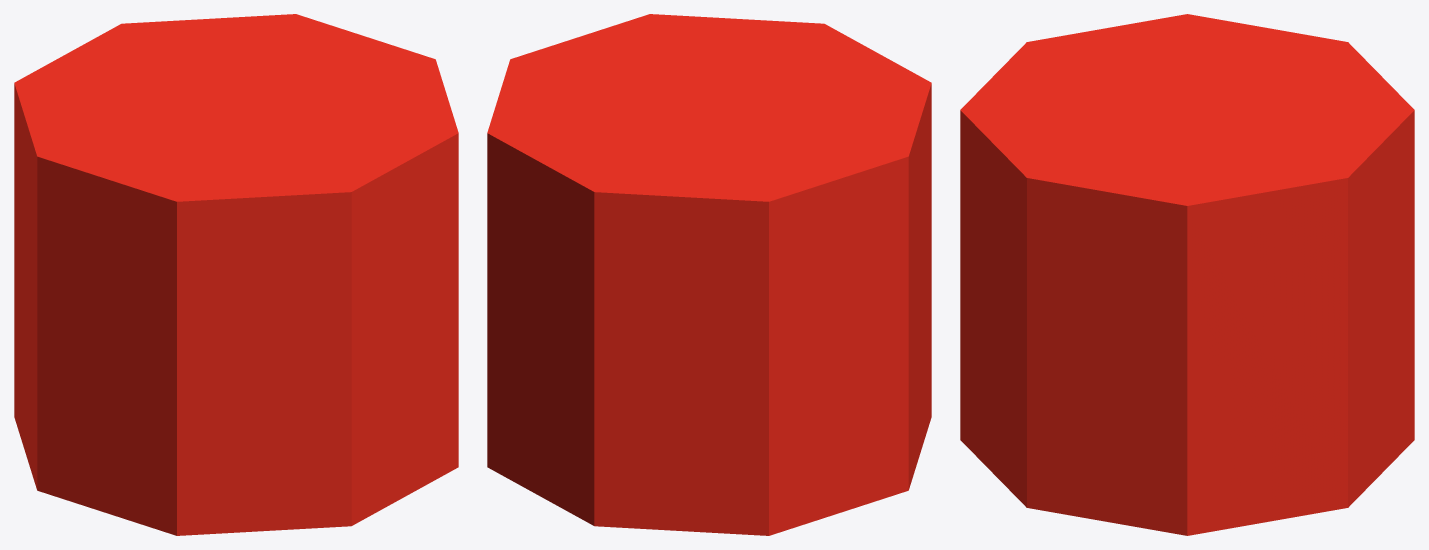
The model's file is battle_fallen_hoplite_memorial_collision.glb.
3 views of the same model, side by side, from view 1: azimuth 30°, elevation 25°; view 2: azimuth 150°, elevation 25°; view 3: azimuth 270°, elevation 25° (orthographic).
Parts seen in each view (by area): view 1: battle_fallen_hoplite_memorial-col; view 2: battle_fallen_hoplite_memorial-col; view 3: battle_fallen_hoplite_memorial-col.
Boxes of the visible parts, x1,y1,x2,y2 form: battle_fallen_hoplite_memorial-col: (14, 14, 458, 535); battle_fallen_hoplite_memorial-col: (487, 14, 931, 535); battle_fallen_hoplite_memorial-col: (960, 14, 1414, 535).
Size of the model in its own units: 1.56 by 1.25 by 1.56.
